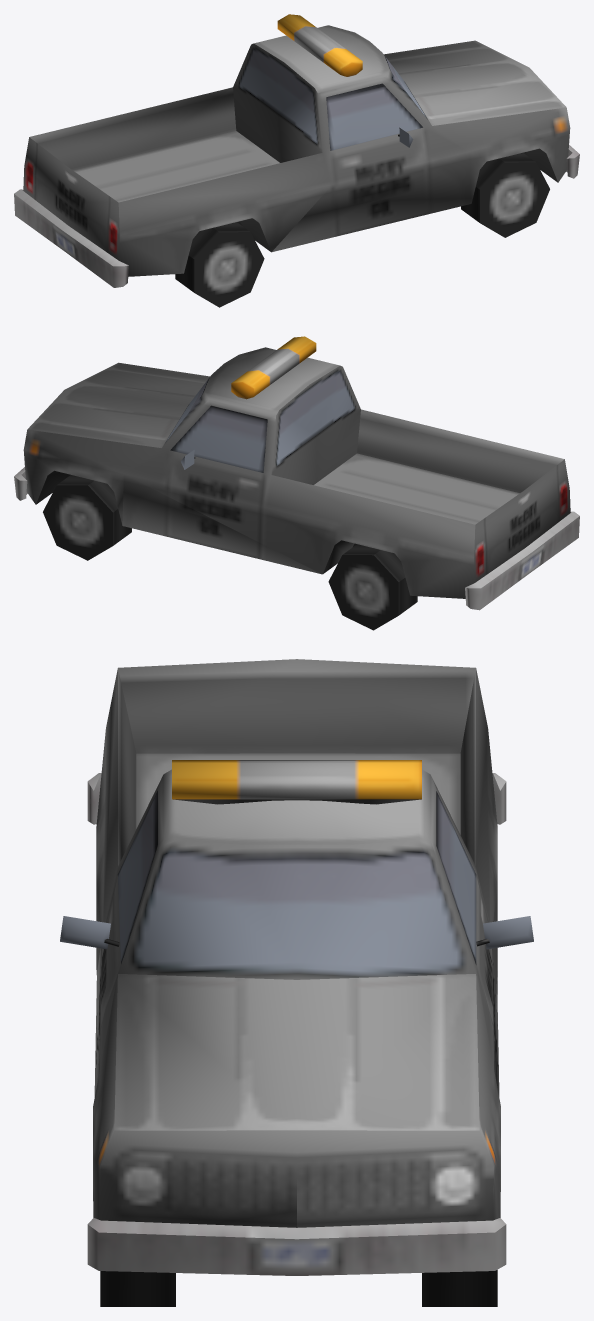
File: fhqDiecast18PickupTruckLights.fbx
3 renders of one model, top to bottom at view 1: azimuth 30°, elevation 25°; view 2: azimuth 150°, elevation 25°; view 3: azimuth 270°, elevation 25°, orthographic. The views are drawn at different scales.
Visible parts, largest first — view 1: Vehicles_PickUpTruckLights; view 2: Vehicles_PickUpTruckLights; view 3: Vehicles_PickUpTruckLights.
Part boxes in pixels (x1=…): Vehicles_PickUpTruckLights: x1=14, y1=14, x2=579, y2=307; Vehicles_PickUpTruckLights: x1=14, y1=336, x2=579, y2=630; Vehicles_PickUpTruckLights: x1=60, y1=659, x2=533, y2=1306.
Bounding box in the file's own units: 0.445 × 0.1772 × 0.1924.
